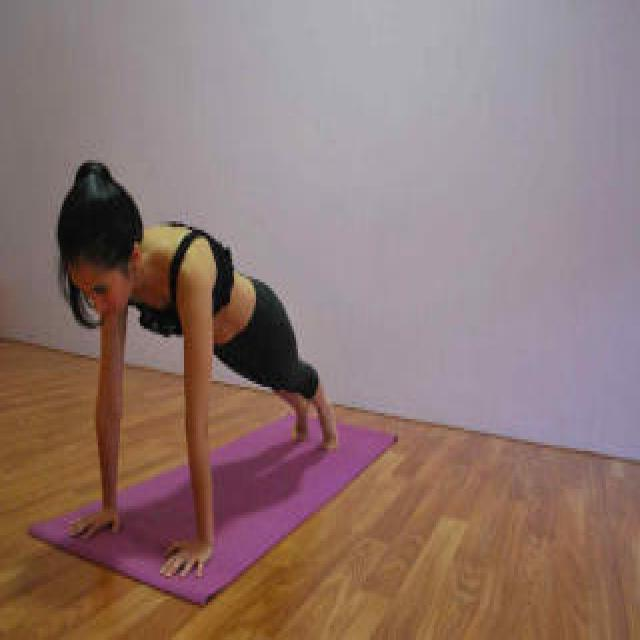yoga-pose plank: (49, 154, 335, 578)
